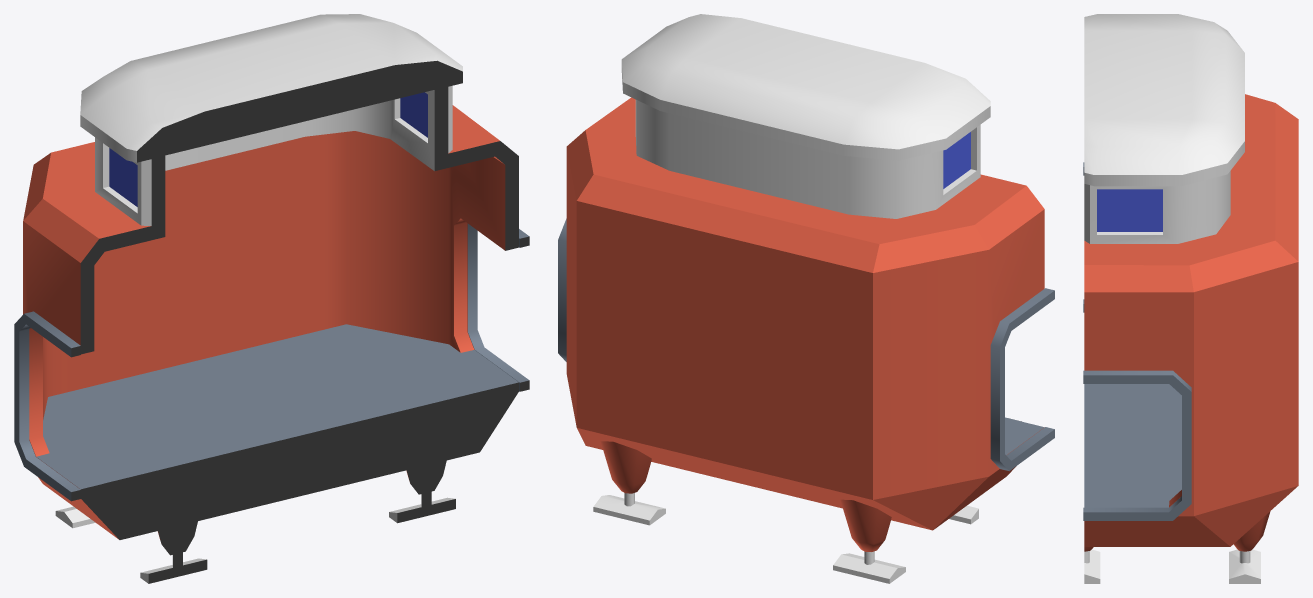
The model's file is Block_01.fbx.
The picture shows the model from 3 angles, left to right: view 1: azimuth 30°, elevation 25°; view 2: azimuth 150°, elevation 25°; view 3: azimuth 270°, elevation 25°; orthographic projection. The views are drawn at different scales.
Visible parts, largest first — view 1: Block_01; view 2: Block_01; view 3: Block_01.
Part boxes in pixels (<box>): Block_01: <box>14,14,529,583</box>; Block_01: <box>558,14,1054,583</box>; Block_01: <box>1083,14,1298,583</box>.
Bounding box in the file's own units: 9.4 × 8.99 × 4.02.
